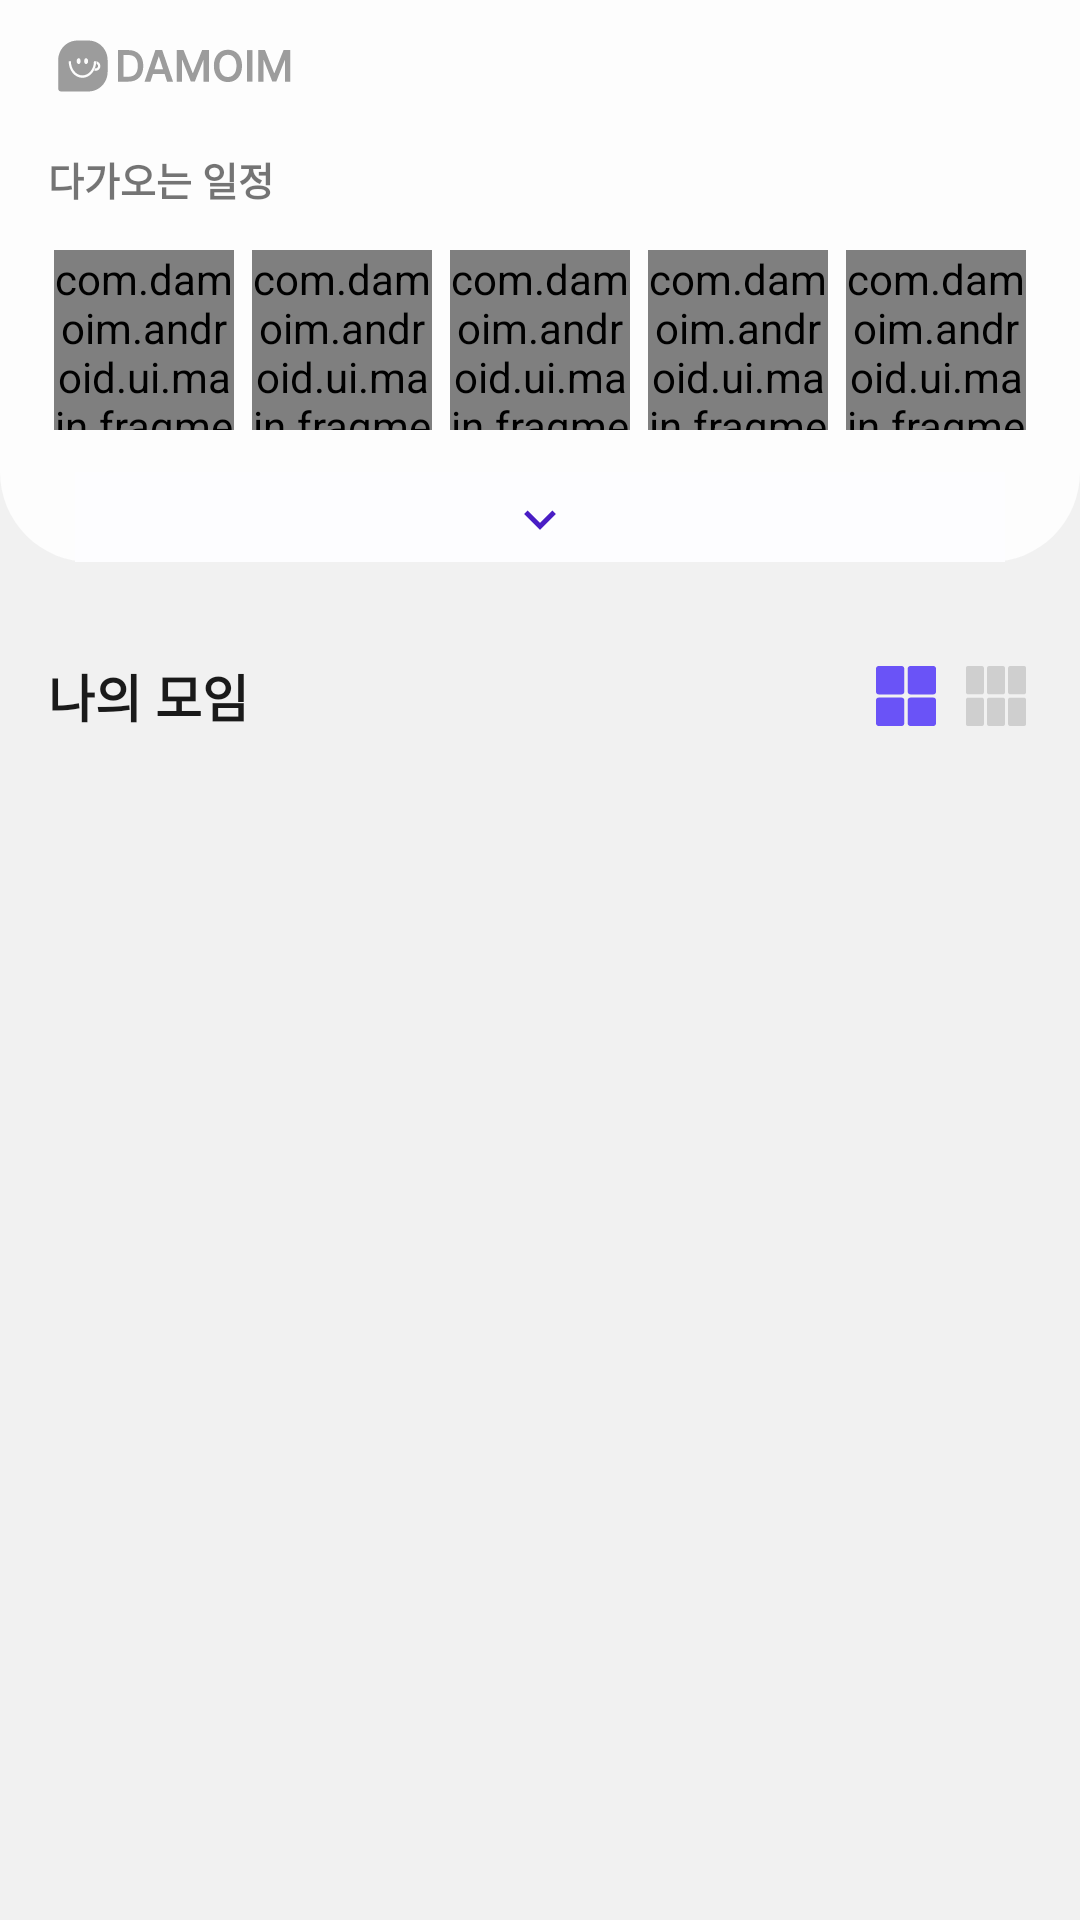

Icons on this 1080x1920 Android screen, each with the point to tap as (x,y):
drop down: (540,520)
